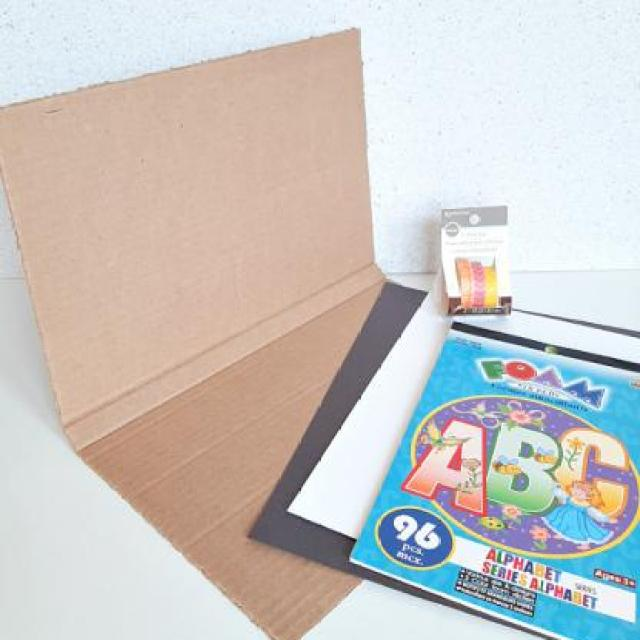box: (4, 16, 453, 640)
